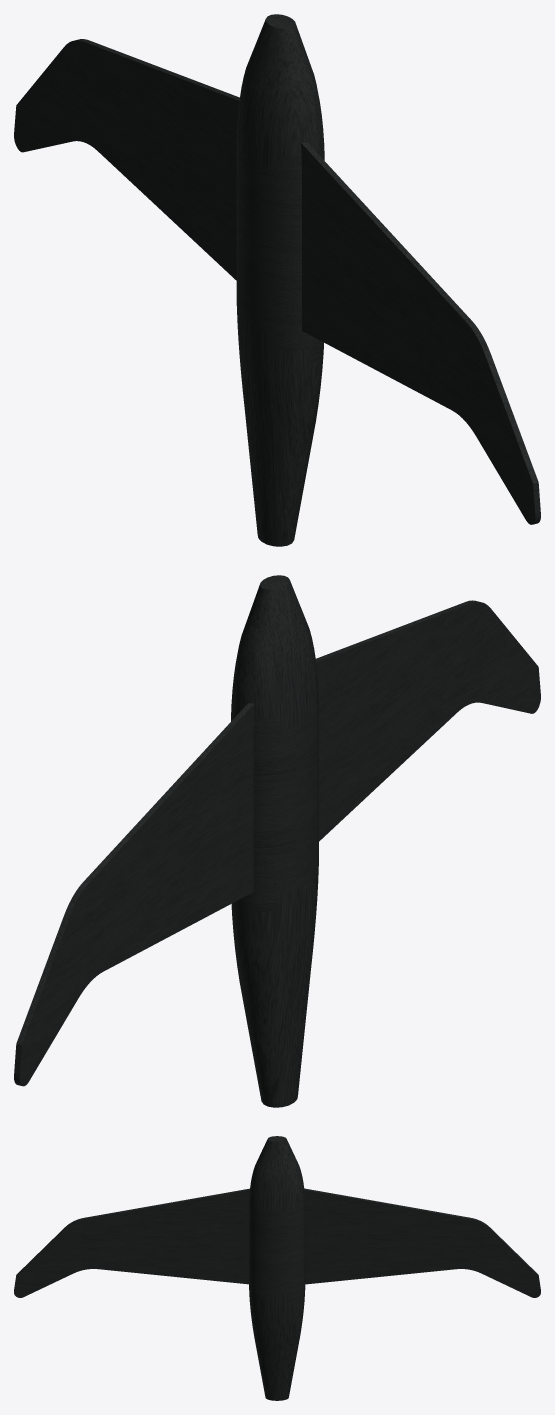
Rendered from Bird low.fbx.
The picture shows the model from 3 angles, top to bottom: view 1: azimuth 30°, elevation 25°; view 2: azimuth 150°, elevation 25°; view 3: azimuth 270°, elevation 25°; orthographic projection. The views are drawn at different scales.
Visible parts, largest first — view 1: Line002, Line003, Line001; view 2: Line002, Line001, Line003; view 3: Line001, Line003, Line002.
Part boxes in pixels (x1,y1,x2,y2): Line002: (236,14,324,546); Line003: (301,142,540,524); Line001: (14,39,239,280); Line002: (231,575,318,1107); Line001: (14,703,254,1086); Line003: (315,600,540,841); Line001: (304,1188,540,1297); Line003: (14,1188,249,1297); Line002: (249,1136,305,1400).
Size of the model in its own units: 30.65 by 219 by 400.
1 material, 1 textured.
